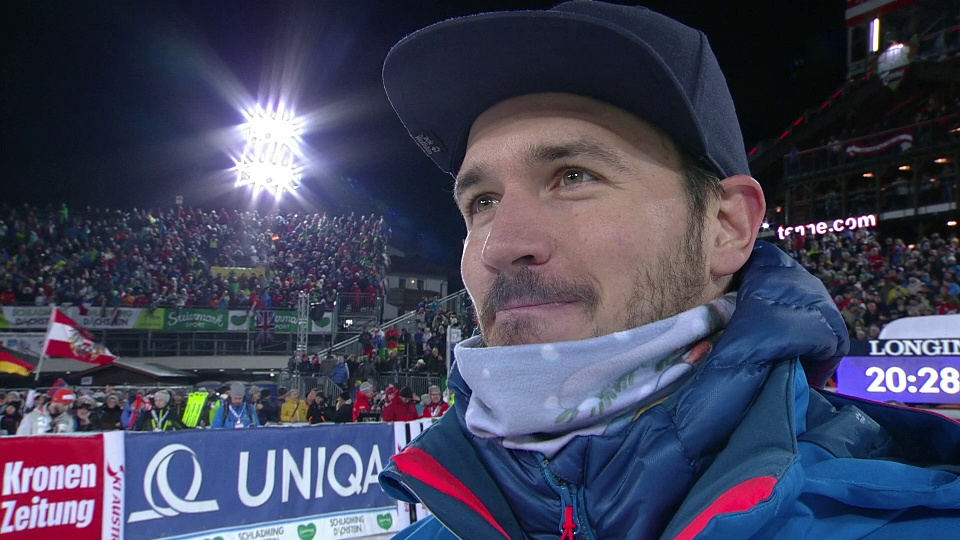etron: (844, 130, 917, 157)
kronenzeitung: (1, 451, 102, 539)
longines: (873, 335, 960, 359)
steiermark: (169, 308, 253, 331), (292, 520, 324, 539)
uniqa: (130, 422, 397, 506)
